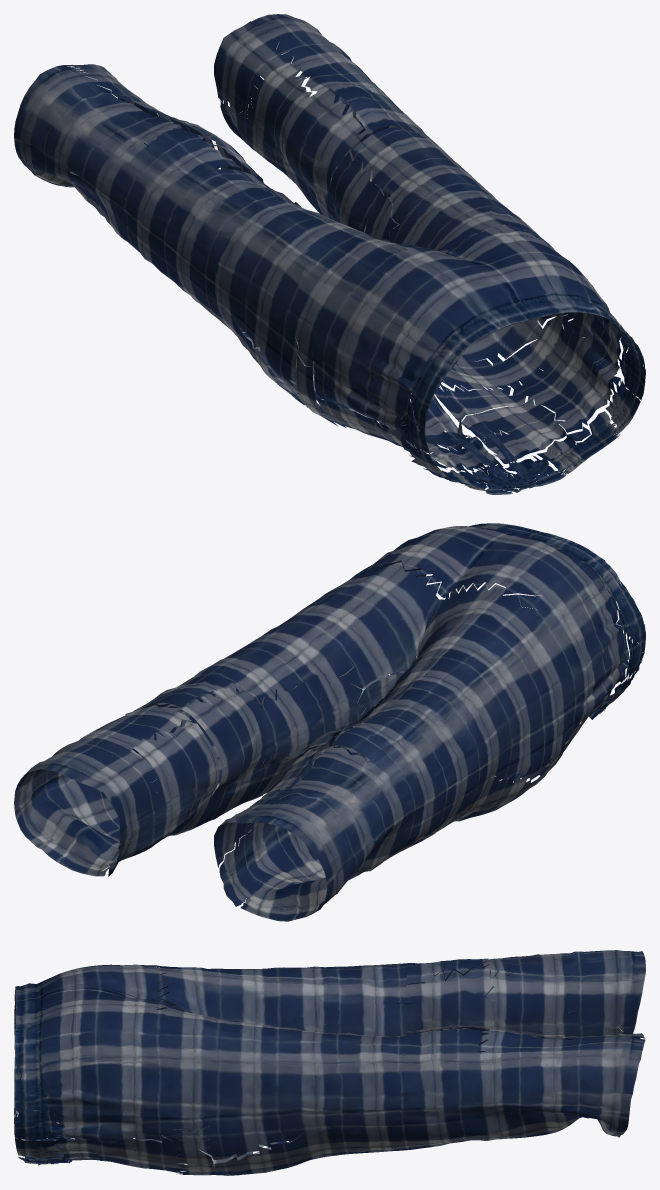
The model's file is adult-base-01.glb.
The picture shows the model from 3 angles, top to bottom: view 1: azimuth 30°, elevation 25°; view 2: azimuth 150°, elevation 25°; view 3: azimuth 270°, elevation 25°; orthographic projection. The views are drawn at different scales.
Visible parts, largest first — view 1: geometry_0; view 2: geometry_0; view 3: geometry_0.
Part boxes in pixels (x1,y1,x2,y2): geometry_0: (14, 14, 645, 494); geometry_0: (14, 523, 645, 921); geometry_0: (14, 950, 645, 1175).
Bounding box in the file's own units: 0.0047 × 0.00287 × 0.00971.
Materials: 1 (1 with a texture image).
